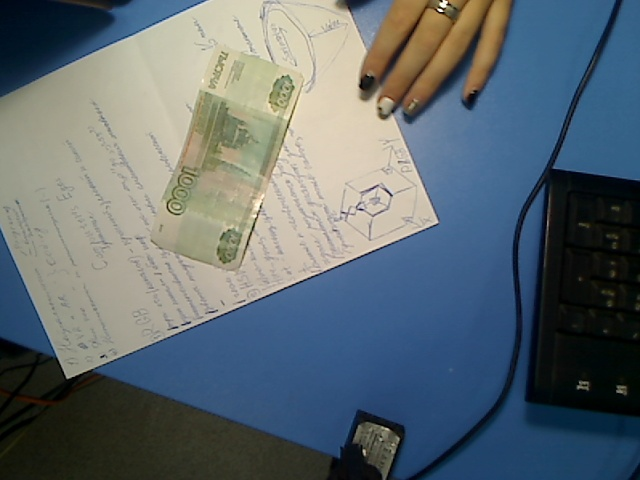banknotes: (146, 42, 306, 278)
